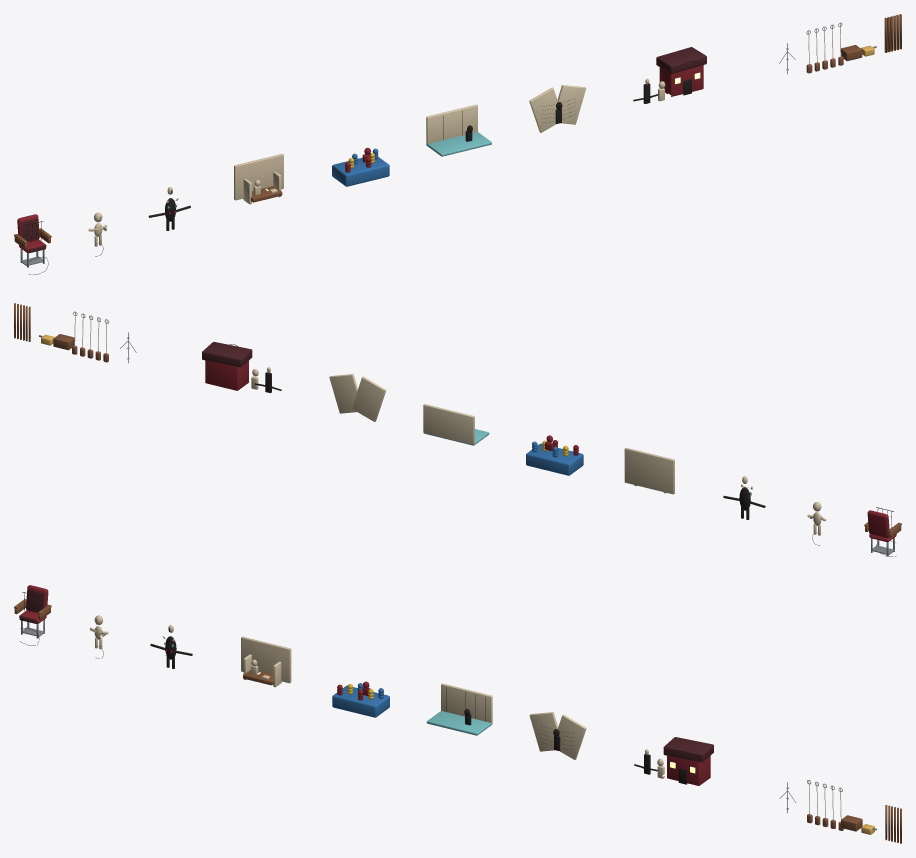
3 renders of one model, top to bottom at view 1: azimuth 30°, elevation 25°; view 2: azimuth 150°, elevation 25°; view 3: azimuth 330°, elevation 25°, orthographic.
Visible parts, largest first — view 1: pool_tile_wall, office_backdrop, pit_box, house_roof, house_body, book_left_page, pool_water, book_right_page; view 2: office_backdrop, pool_tile_wall, pit_box, house_body, book_left_page, house_roof, book_right_page, seat_back; view 3: pool_tile_wall, office_backdrop, pit_box, house_roof, house_body, book_right_page, pool_water, book_left_page.
Boxes of the visible parts, x1,y1,x2,y2 form: pool_tile_wall: [426, 104, 477, 144]; office_backdrop: [234, 154, 283, 200]; pit_box: [332, 157, 389, 186]; house_roof: [656, 47, 706, 74]; house_body: [659, 65, 703, 96]; book_left_page: [529, 87, 557, 132]; pool_water: [426, 132, 491, 156]; book_right_page: [553, 85, 586, 124]; office_backdrop: [624, 447, 674, 494]; pool_tile_wall: [423, 404, 474, 444]; pit_box: [526, 443, 583, 475]; house_body: [205, 360, 248, 390]; book_left_page: [352, 376, 386, 421]; house_roof: [202, 342, 252, 367]; book_right_page: [329, 374, 357, 413]; seat_back: [867, 510, 889, 538]; pool_tile_wall: [441, 683, 492, 723]; office_backdrop: [241, 636, 291, 683]; pit_box: [332, 685, 389, 717]; house_roof: [663, 737, 713, 762]; house_body: [667, 755, 710, 785]; book_right_page: [558, 714, 586, 759]; pool_water: [426, 711, 492, 735]; book_left_page: [529, 712, 561, 751].
Bounding box in the file's own units: 26.89 × 1.67 × 0.9924.
